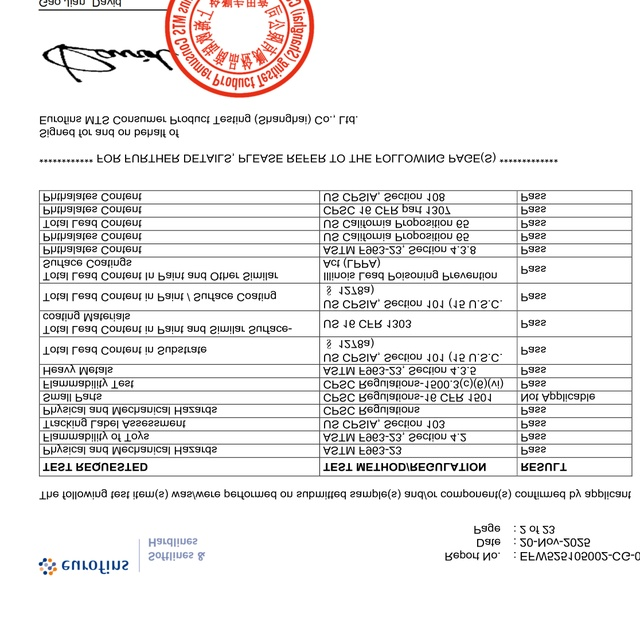eurofins: (36, 553, 134, 583)
